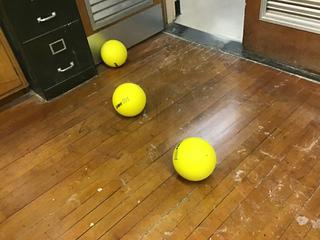power_cell: (164, 131, 217, 182), (107, 81, 156, 121), (99, 37, 127, 68)
